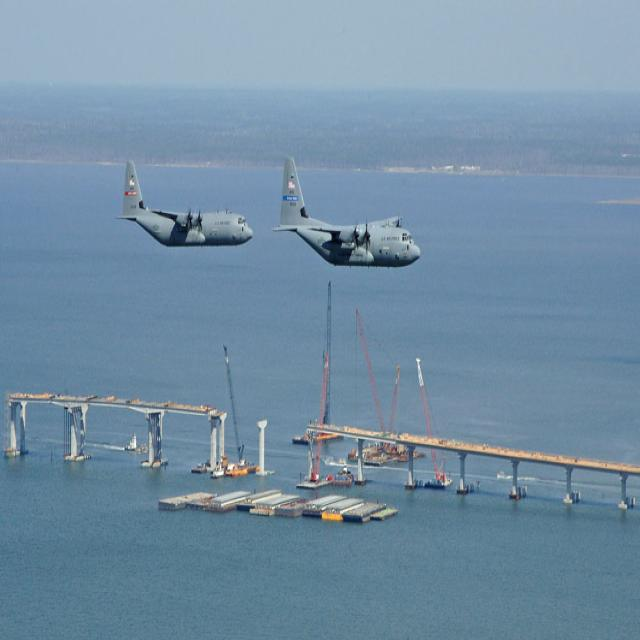MIL_Plane: (270, 155, 421, 270), (112, 159, 254, 248)
